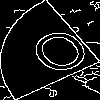O: (25, 25, 100, 85)
